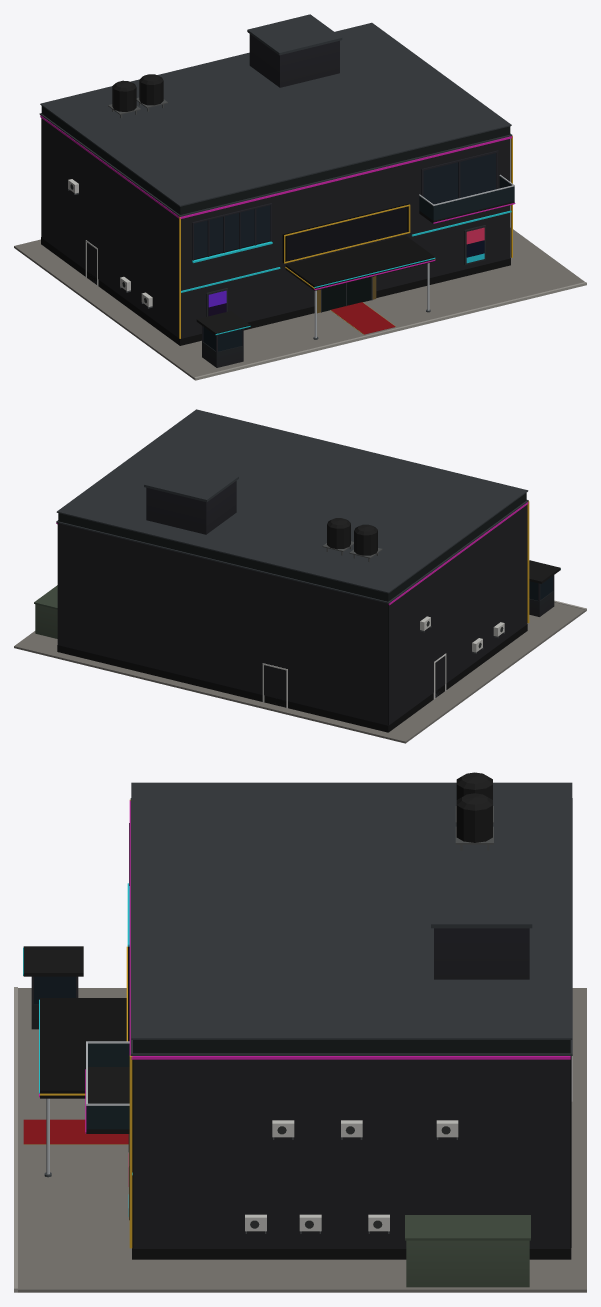
The model's file is ns_club_lod1.glb.
3 renders of one model, top to bottom at view 1: azimuth 30°, elevation 25°; view 2: azimuth 150°, elevation 25°; view 3: azimuth 270°, elevation 25°, orthographic. The views are drawn at different scales.
Parts seen in each view (by area): view 1: ns_club_lod1; view 2: ns_club_lod1; view 3: ns_club_lod1.
Boxes of the visible parts, left/top/right/bottom form: ns_club_lod1: left=14, top=14, right=586, bottom=380; ns_club_lod1: left=14, top=409, right=586, bottom=743; ns_club_lod1: left=14, top=772, right=586, bottom=1292.
Size of the model in its own units: 26.1 by 11.35 by 20.95.
